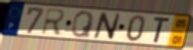0: (126, 14, 147, 43)
7: (25, 6, 46, 35)
N: (91, 11, 122, 41)
Q: (70, 10, 96, 39)
R: (39, 7, 67, 36)
T: (152, 16, 172, 45)
